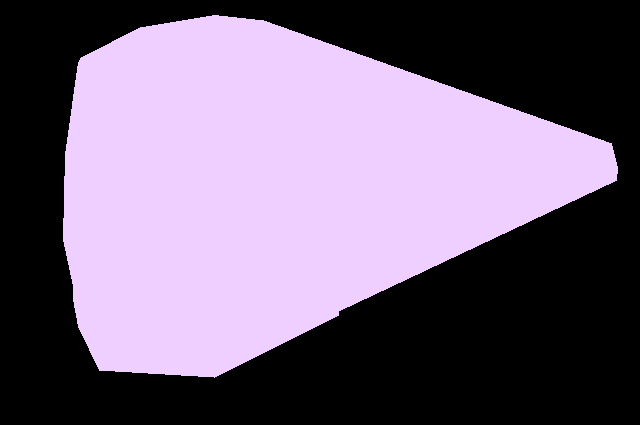Train: (63, 15, 617, 377)
